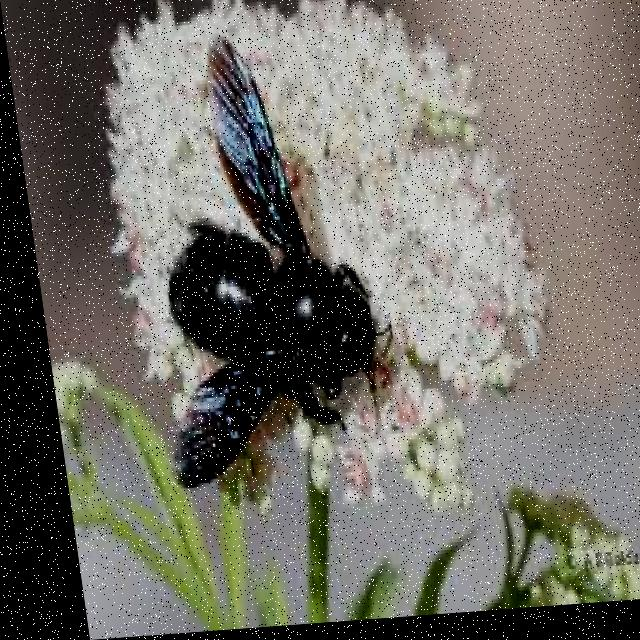Xylocopa: (113, 21, 399, 517)
